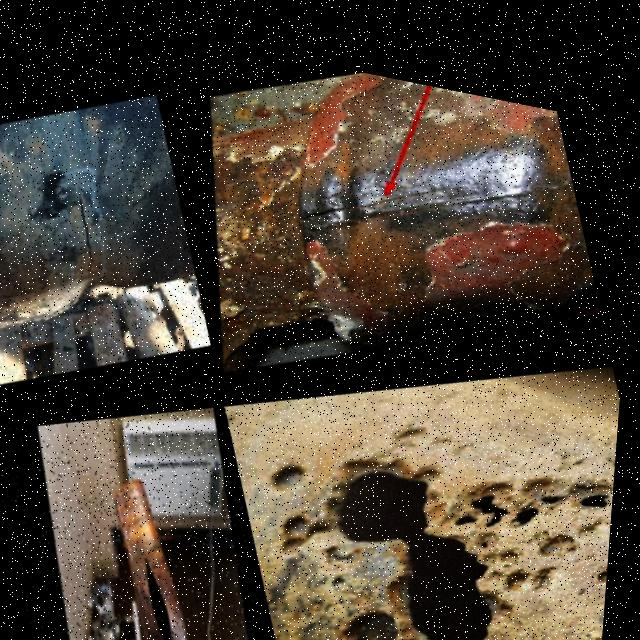crack: (289, 137, 474, 240), (73, 179, 95, 279)
hole: (351, 488, 526, 640), (294, 416, 457, 567), (481, 503, 577, 589), (321, 574, 415, 640), (247, 433, 309, 494), (256, 491, 316, 554), (458, 461, 509, 523), (560, 457, 614, 506), (498, 480, 541, 520), (524, 458, 568, 496), (594, 413, 623, 468), (440, 487, 472, 518), (585, 542, 615, 569)
rupture: (138, 543, 199, 640)
